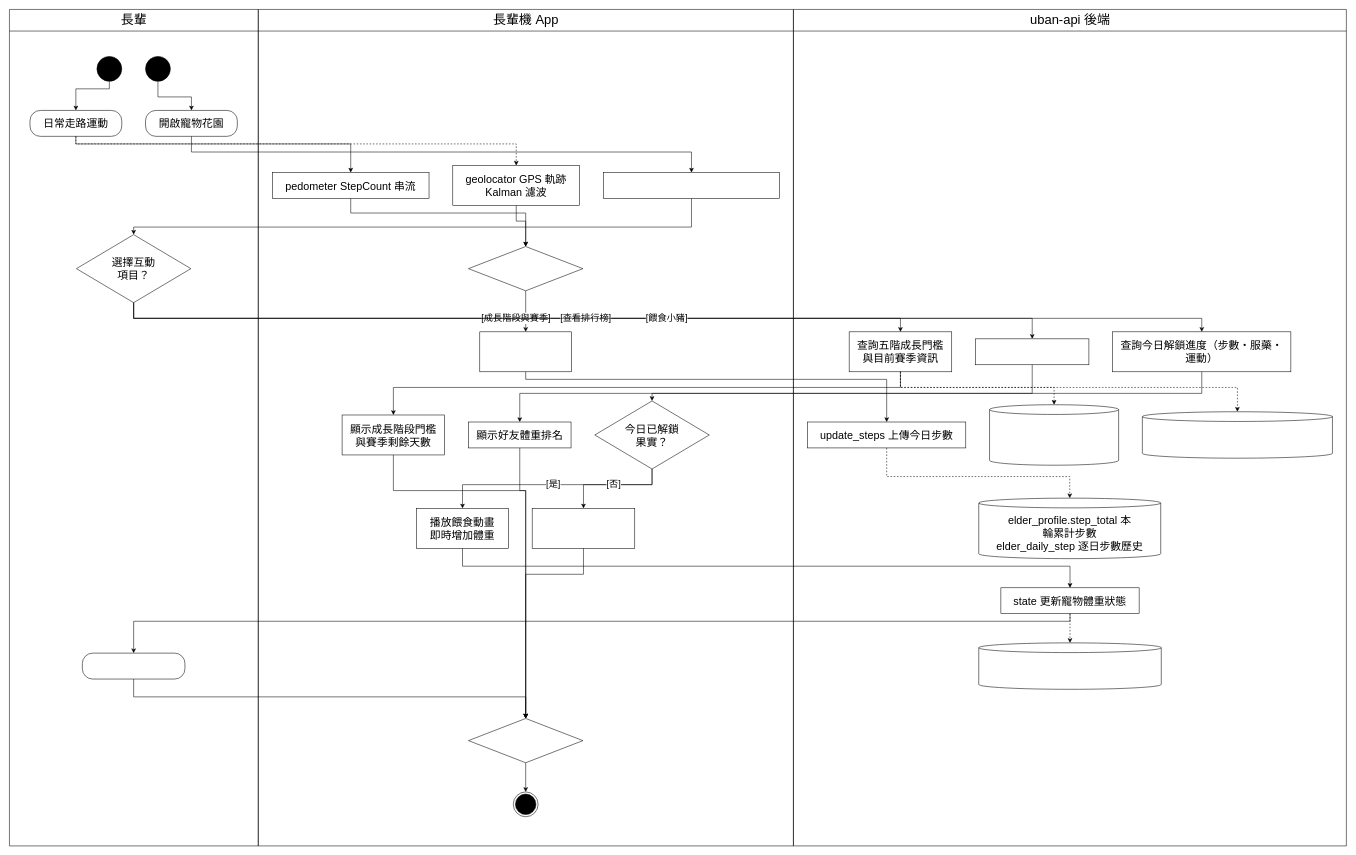
Image size: 1356x855. Some labels were removed from this diagram. The shapes that lost their labels are listed below. From the top down, each one's centre as x and y in pixels, then its label:
pixel 691 185: PetStudioScreen 寵物花園畫面
pixel 525 351: 感測整合 兩者取最大值
pixel 1032 351: 查詢小豬體重排行榜
pixel 1054 434: pet_stage_threshold 5 階等距 20 公斤 第 5 階 max 為 NULL
pixel 1237 434: pet_season 賽季資料 pet_season_settlement 名次結算
pixel 583 528: 提示所需步數 餵食按鈕暫時停用
pixel 133 666: 看見小豬順利長大
pixel 1069 665: elder_pet_state.weight_grams 體重制，非經驗值
